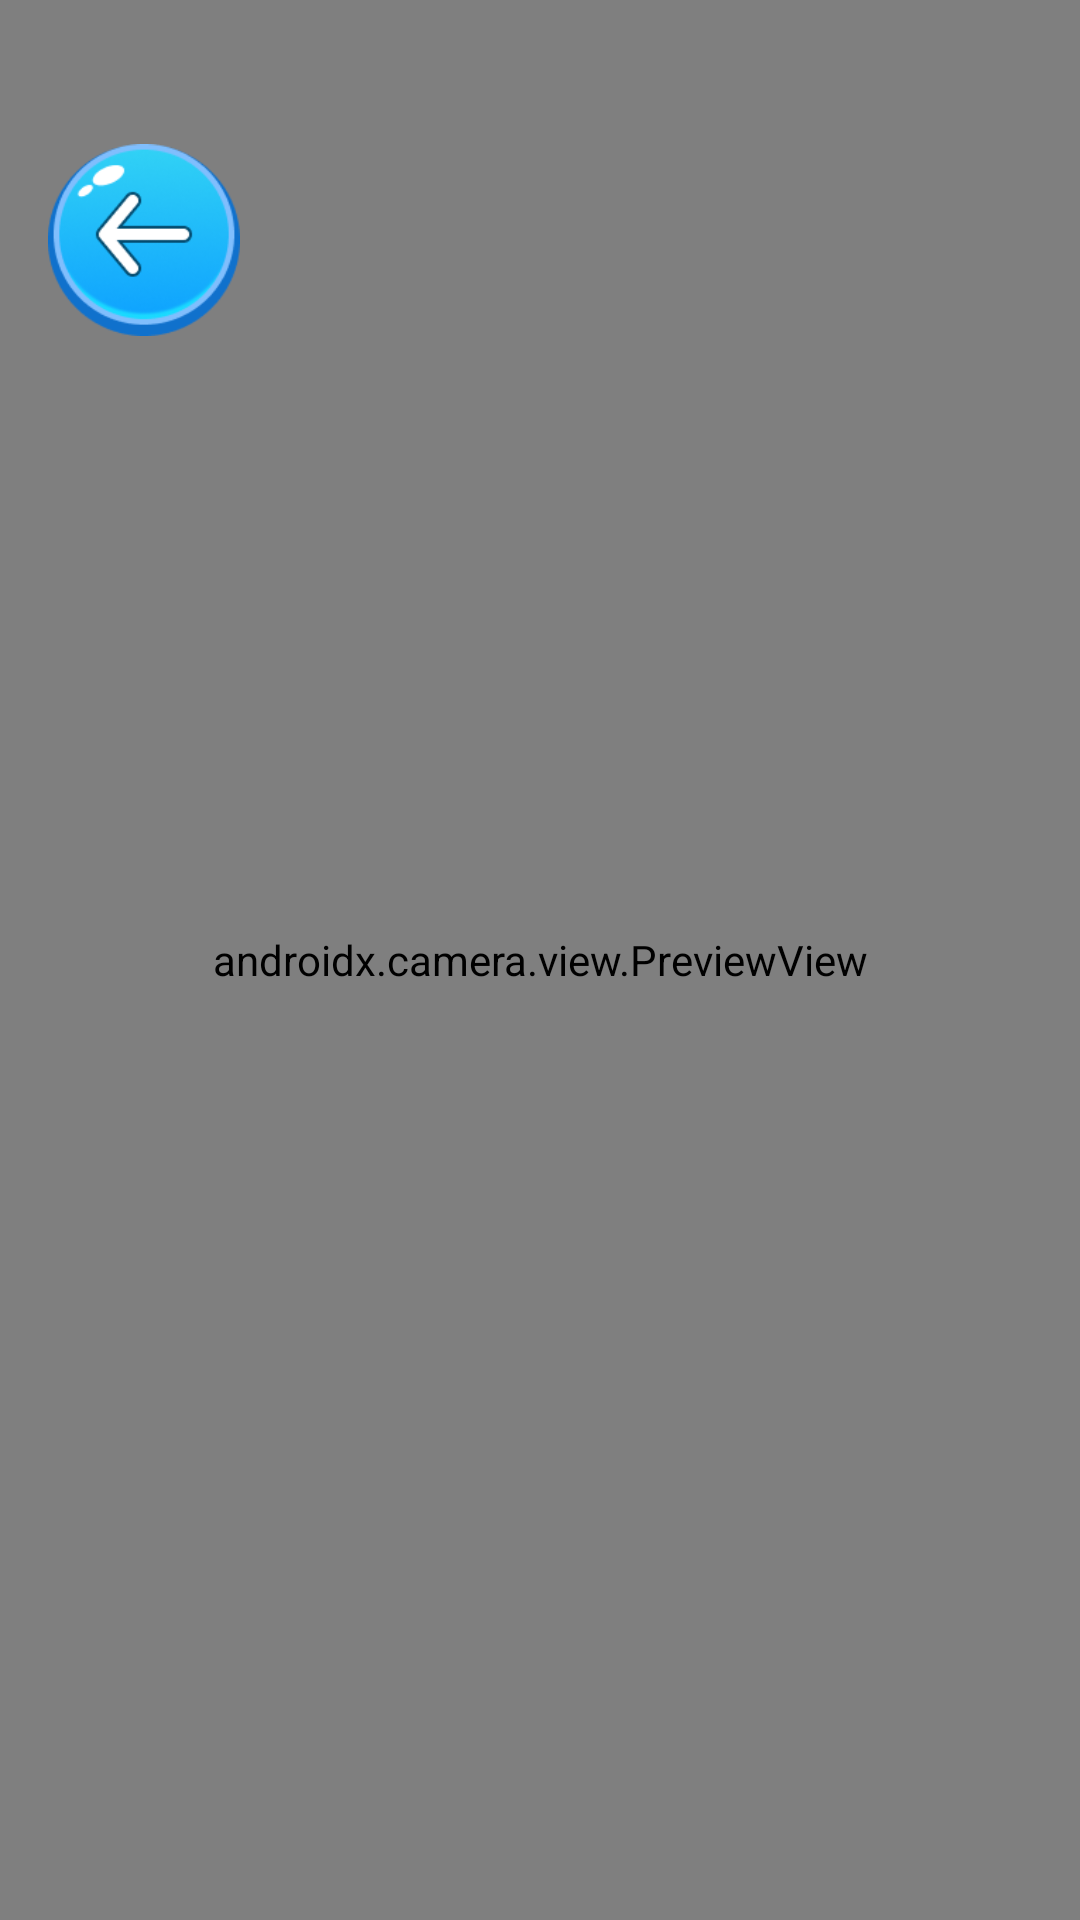

Screen size 1080px×1920px. Icon name, then its center in pixels as point (x, y):
back app: point (144, 240)
